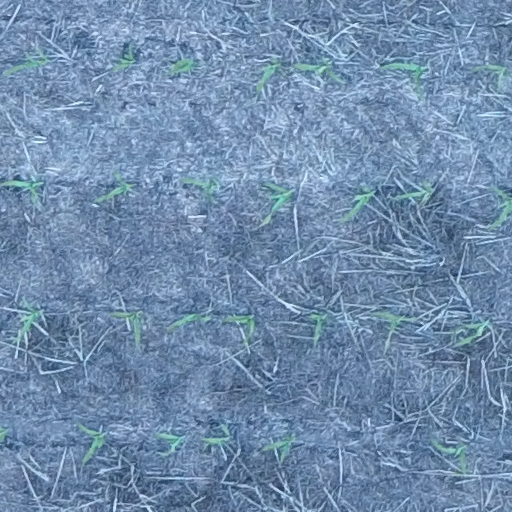planta: (379, 62, 426, 100), (261, 182, 292, 225), (432, 439, 467, 476), (340, 186, 374, 223), (95, 171, 134, 202), (13, 301, 42, 342), (292, 58, 341, 82), (77, 422, 105, 463), (4, 50, 48, 76), (109, 311, 144, 343), (372, 311, 416, 336), (1, 178, 42, 203), (221, 315, 255, 345), (394, 179, 434, 204), (450, 320, 488, 345), (262, 434, 294, 462), (255, 58, 282, 91), (181, 177, 220, 198), (471, 64, 509, 85), (167, 314, 210, 331), (156, 432, 181, 456), (112, 47, 135, 71), (202, 424, 229, 444), (309, 313, 327, 341), (168, 58, 196, 74)
